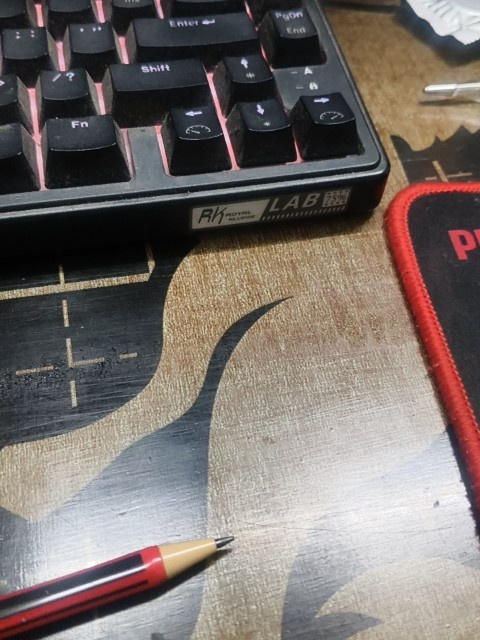keyboard: (1, 0, 384, 253)
